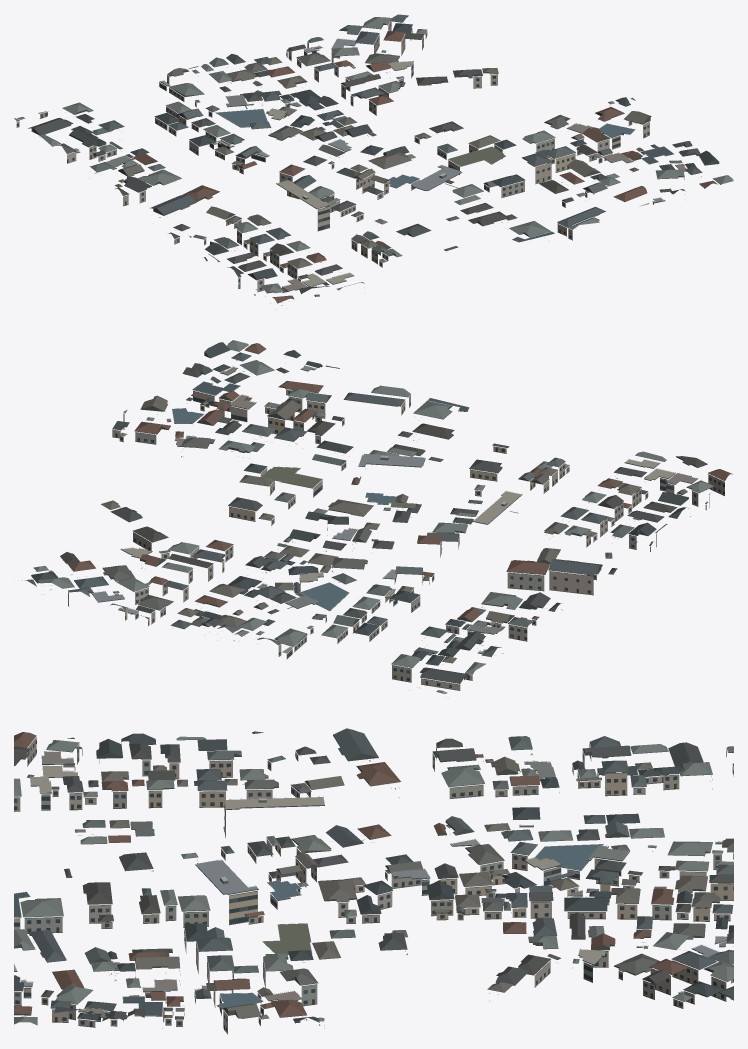
3 views of the same model, one above another, from view 1: azimuth 30°, elevation 25°; view 2: azimuth 150°, elevation 25°; view 3: azimuth 270°, elevation 25° (orthographic). The views are drawn at different scales.
Parts seen in each view (by area): view 1: r7-c4; view 2: r7-c4; view 3: r7-c4.
Boxes of the visible parts, x1,y1,x2,y2 form: r7-c4: (14, 14, 733, 309); r7-c4: (21, 340, 732, 698); r7-c4: (14, 728, 733, 1034).
Size of the model in its own units: 250 by 20.31 by 250.
